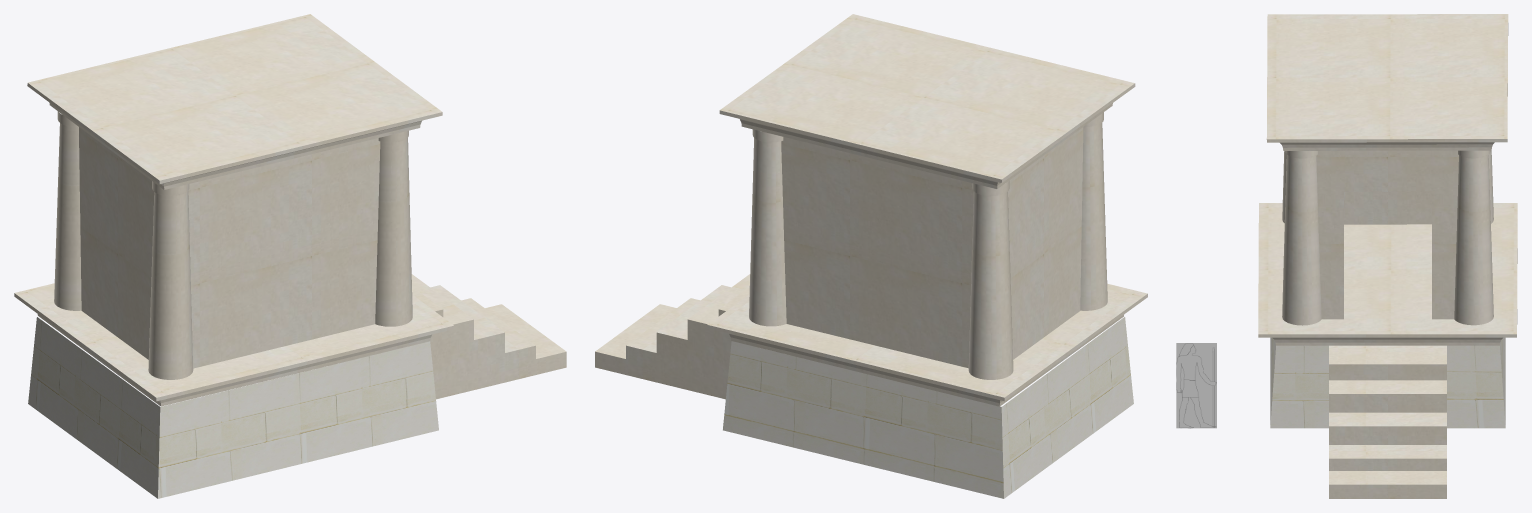
Rendered from Serapeum_Chapels.glb.
3 renders of one model, left to right at view 1: azimuth 30°, elevation 25°; view 2: azimuth 150°, elevation 25°; view 3: azimuth 270°, elevation 25°, orthographic. The views are drawn at different scales.
Parts seen in each view (by area): view 1: Mesh9 Model, Mesh8 Model, Mesh6 Component_1_2 Component_2_1 Model, Mesh1 Component_1_1 Model, Mesh3 Component_8_2 Model, Mesh2 Component_8_1 Model, Mesh4 Component_8_3 Model; view 2: Mesh9 Model, Mesh8 Model, Mesh6 Component_1_2 Component_2_1 Model, Mesh1 Component_1_1 Model, Mesh4 Component_8_3 Model, Mesh5 Component_8_4 Model, Mesh3 Component_8_2 Model; view 3: Mesh6 Component_1_2 Component_2_1 Model, Mesh8 Model, Mesh1 Component_1_1 Model, Mesh9 Model, Mesh5 Component_8_4 Model, Mesh2 Component_8_1 Model, Mesh10 Model.
Boxes of the visible parts, bbox=[...] form: Mesh9 Model: bbox=[79, 127, 380, 368]; Mesh8 Model: bbox=[28, 274, 566, 498]; Mesh6 Component_1_2 Component_2_1 Model: bbox=[27, 14, 442, 189]; Mesh1 Component_1_1 Model: bbox=[14, 283, 454, 406]; Mesh3 Component_8_2 Model: bbox=[148, 181, 193, 379]; Mesh2 Component_8_1 Model: bbox=[375, 130, 412, 326]; Mesh4 Component_8_3 Model: bbox=[54, 111, 81, 310]; Mesh9 Model: bbox=[762, 127, 1083, 368]; Mesh8 Model: bbox=[595, 274, 1133, 498]; Mesh6 Component_1_2 Component_2_1 Model: bbox=[719, 14, 1135, 188]; Mesh1 Component_1_1 Model: bbox=[707, 283, 1147, 406]; Mesh4 Component_8_3 Model: bbox=[968, 180, 1013, 379]; Mesh5 Component_8_4 Model: bbox=[749, 129, 786, 326]; Mesh3 Component_8_2 Model: bbox=[1080, 112, 1107, 310]; Mesh6 Component_1_2 Component_2_1 Model: bbox=[1266, 14, 1508, 150]; Mesh8 Model: bbox=[1270, 337, 1505, 498]; Mesh1 Component_1_1 Model: bbox=[1258, 203, 1517, 345]; Mesh9 Model: bbox=[1316, 150, 1458, 319]; Mesh5 Component_8_4 Model: bbox=[1454, 150, 1493, 325]; Mesh2 Component_8_1 Model: bbox=[1282, 151, 1321, 325]; Mesh10 Model: bbox=[1176, 343, 1216, 428].
Size of the model in its own units: 7.98 by 5.44 by 5.8.
Materials: 4 (4 with a texture image).
